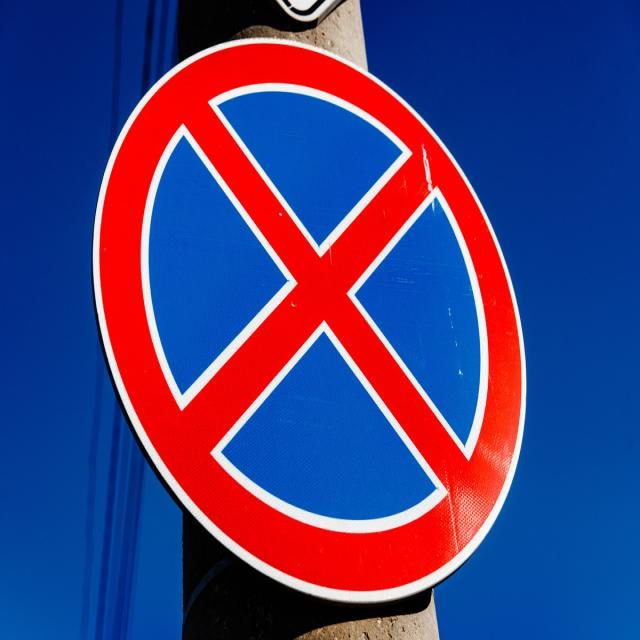no stopping: (87, 37, 531, 610)
